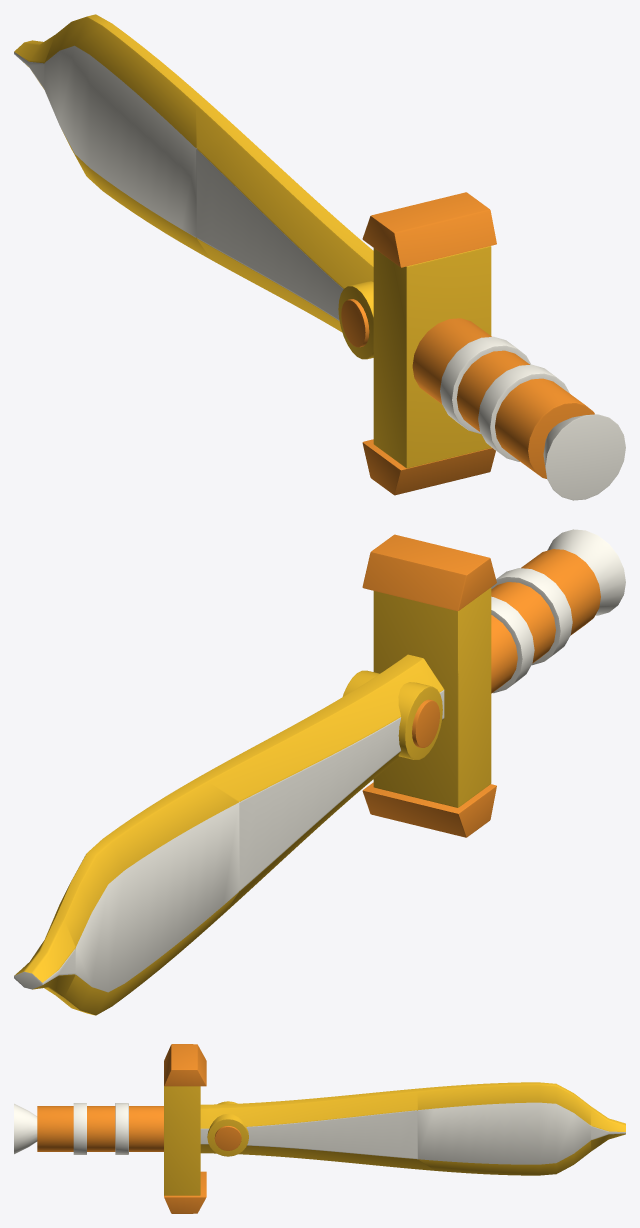
File: Sword_ZenithguardBlade.glb
The picture shows the model from 3 angles, top to bottom: view 1: azimuth 30°, elevation 25°; view 2: azimuth 150°, elevation 25°; view 3: azimuth 270°, elevation 25°; orthographic projection. The views are drawn at different scales.
Visible parts, largest first — view 1: Sword_ZenithguardBlade; view 2: Sword_ZenithguardBlade; view 3: Sword_ZenithguardBlade.
Part boxes in pixels (left/top/right/bottom): Sword_ZenithguardBlade: left=14, top=14, right=625, bottom=500; Sword_ZenithguardBlade: left=14, top=529, right=625, bottom=1015; Sword_ZenithguardBlade: left=14, top=1044, right=625, bottom=1213.
Bounding box in the file's own units: 0.1 × 0.26 × 1.
Materials: 1 (1 with a texture image).
